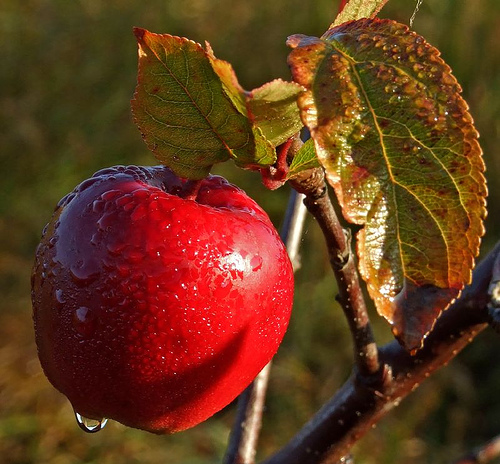apple: (27, 161, 295, 439)
